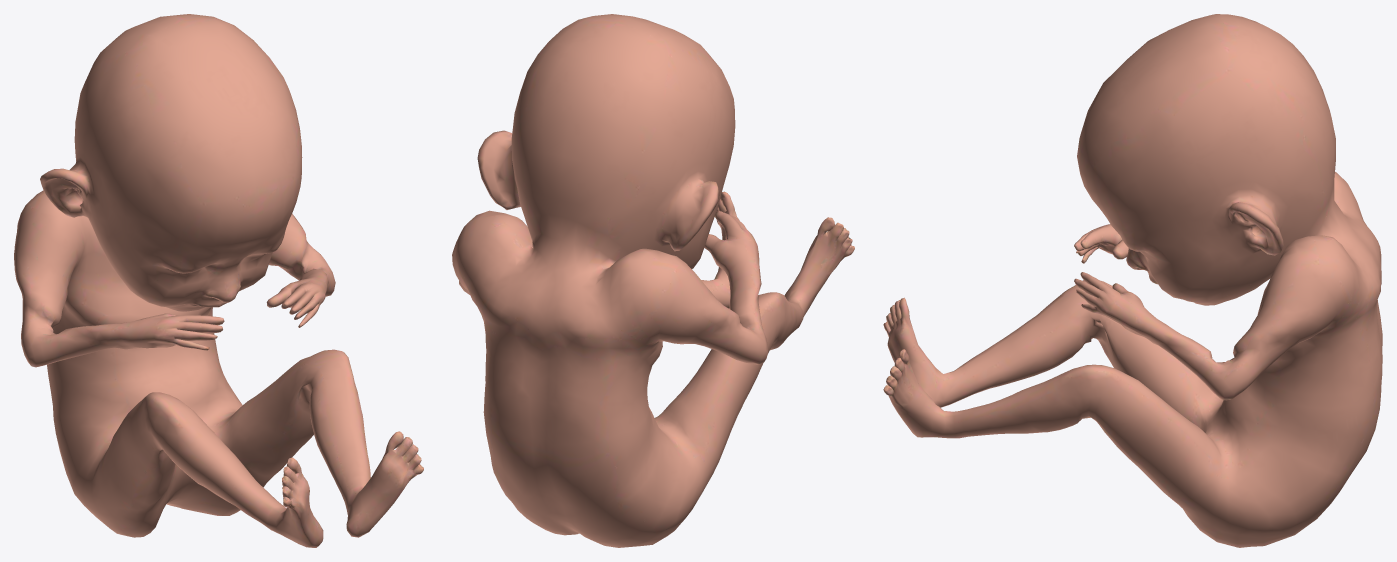
File: pb-w24.eb2bae1b.glb
The picture shows the model from 3 angles, left to right: view 1: azimuth 30°, elevation 25°; view 2: azimuth 150°, elevation 25°; view 3: azimuth 270°, elevation 25°; orthographic projection.
Visible parts, largest first — view 1: Baby; view 2: Baby; view 3: Baby.
Part boxes in pixels (x1,y1,x2,y2): Baby: [14, 14, 423, 547]; Baby: [452, 14, 854, 547]; Baby: [883, 14, 1382, 547].
Size of the model in its own units: 0.1443 by 0.2283 by 0.2062.
1 material, 1 textured.
